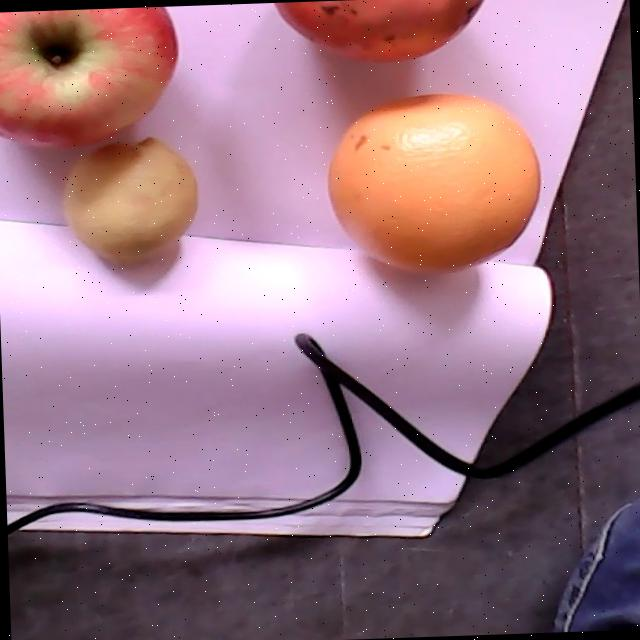apple: (0, 8, 177, 149)
lemon: (63, 134, 197, 263)
orange: (327, 92, 540, 270)
pomegranate: (274, 0, 482, 61)
